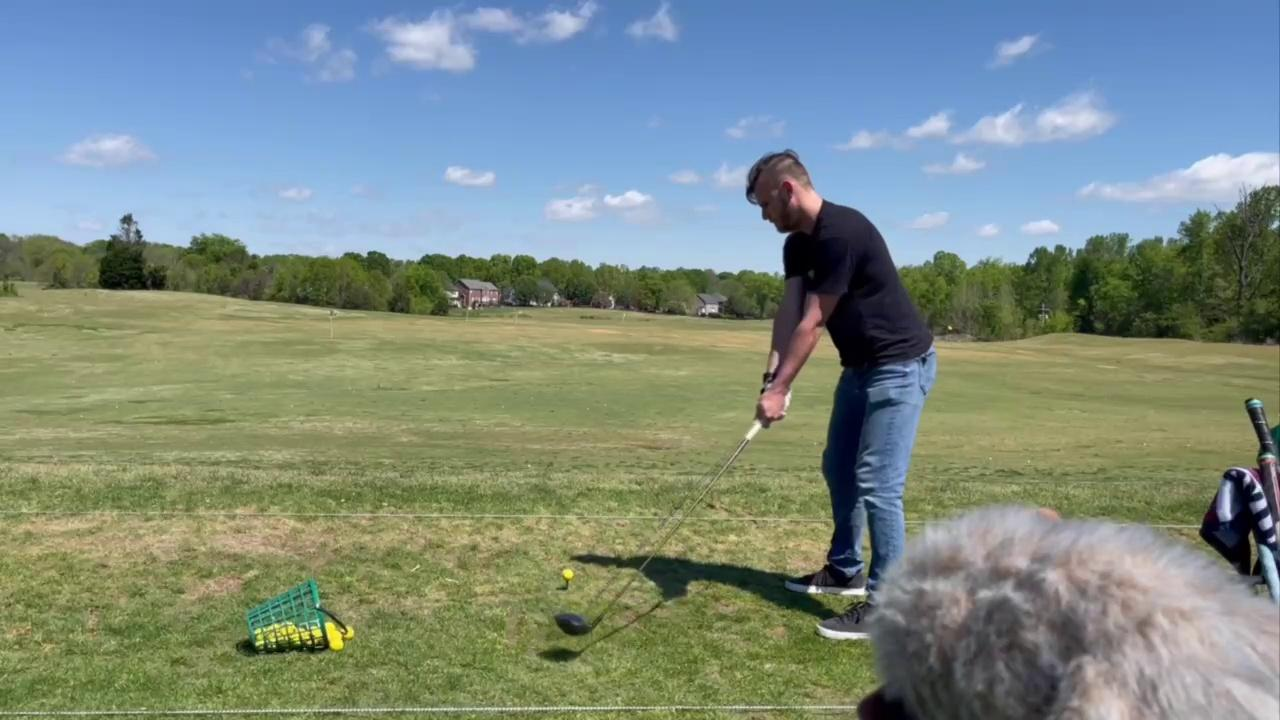ClubHead: (551, 606, 607, 642)
GolfBall: (560, 566, 576, 583)
